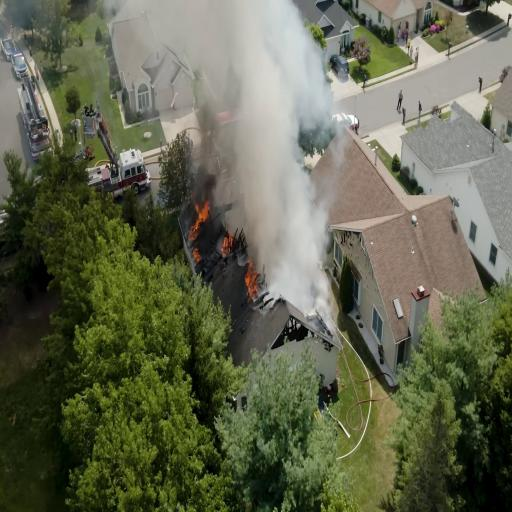smoke: (245, 52, 301, 234), (207, 1, 289, 83)
